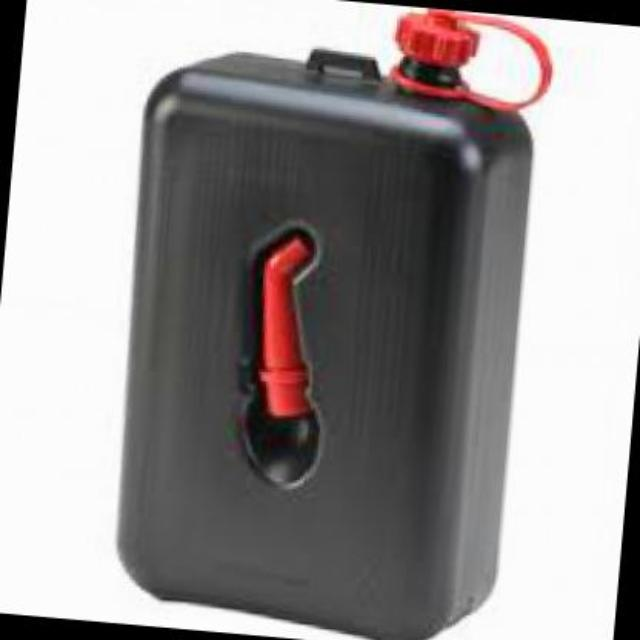chemical_plastic_gallon: (93, 0, 563, 638)
